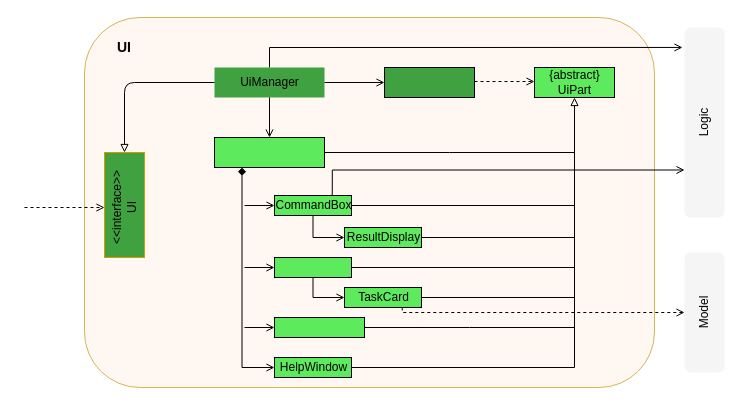
Image size: 742x405. Some labels were removed from this diagram. Here are the shapes that lost their labels. From the top down, the centre of each, then its label:
the point at 429,82: UiPartLoader
the point at 269,152: MainWindow
the point at 313,267: TaskListPanel
the point at 319,327: StatusBarFooter
